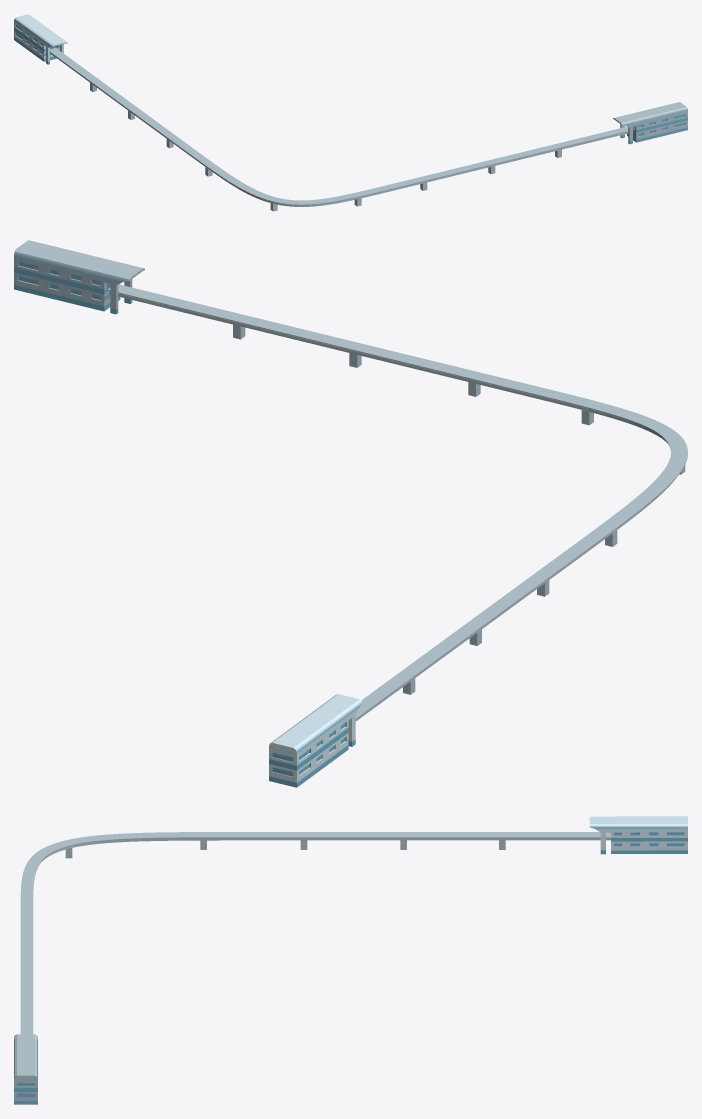
File: station.glb
3 views of the same model, one above another, from view 1: azimuth 30°, elevation 25°; view 2: azimuth 150°, elevation 25°; view 3: azimuth 270°, elevation 25° (orthographic). The views are drawn at different scales.
Visible parts, largest first — view 1: Plane.001, Cube, Cube.001; view 2: Plane.001, Cube, Cube.001; view 3: Plane.001, Cube.001, Cube.
Part boxes in pixels (<box>): Plane.001: <box>50,48,633,206</box>; Cube: <box>613,102,687,144</box>; Cube.001: <box>14,14,67,64</box>; Plane.001: <box>107,284,687,721</box>; Cube: <box>14,240,144,314</box>; Cube.001: <box>269,694,362,787</box>; Plane.001: <box>20,832,610,1034</box>; Cube.001: <box>589,816,687,854</box>; Cube: <box>14,1034,37,1104</box>.
Size of the model in its own units: 185 by 9.57 by 203.
